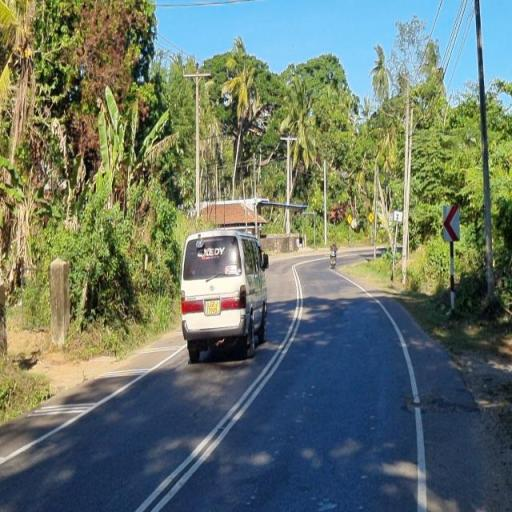double_white_line: (136, 261, 305, 512)
